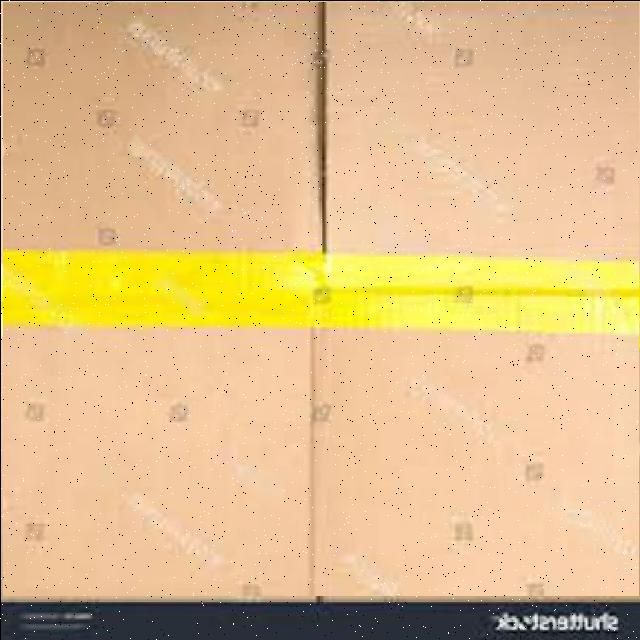normal: (2, 2, 638, 596)
